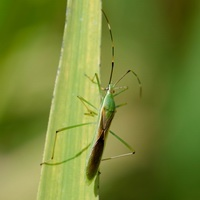insect: (37, 0, 125, 199)
